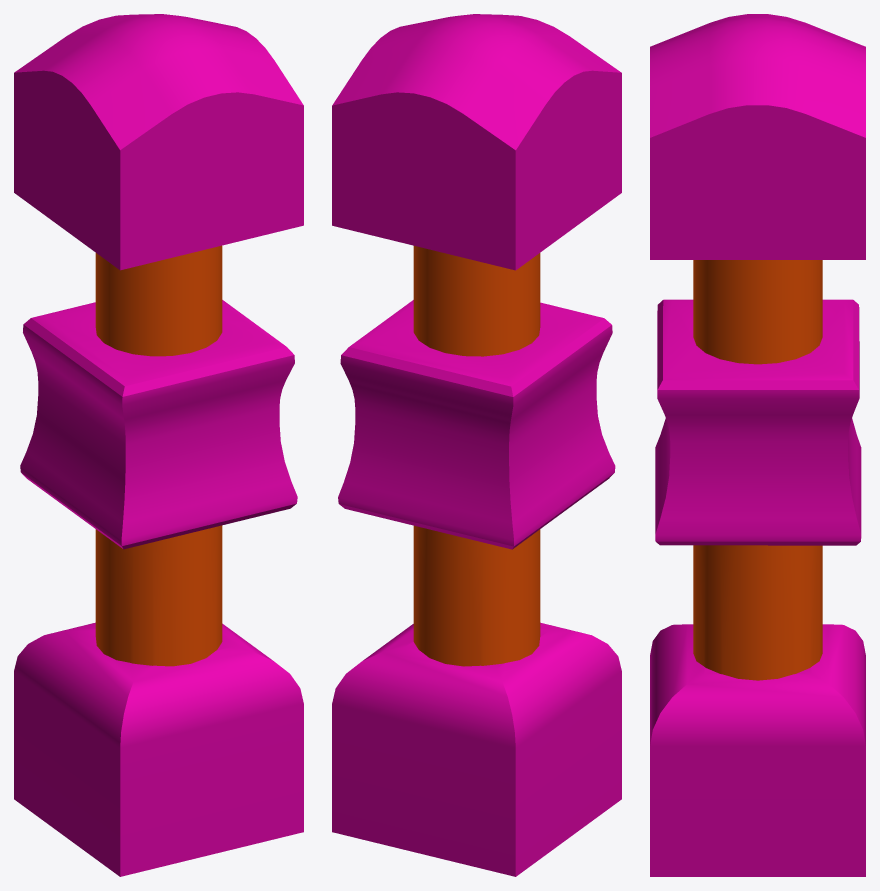
File: Fence_Post2.fbx
3 views of the same model, side by side, from view 1: azimuth 30°, elevation 25°; view 2: azimuth 150°, elevation 25°; view 3: azimuth 270°, elevation 25° (orthographic).
Visible parts, largest first — view 1: pCube113; view 2: pCube113; view 3: pCube113.
Part boxes in pixels (box(x1,y1,x2,y2)): pCube113: box(14, 14, 303, 876); pCube113: box(332, 14, 621, 876); pCube113: box(650, 14, 865, 876).
Bounding box in the file's own units: 6 × 24.63 × 6.
